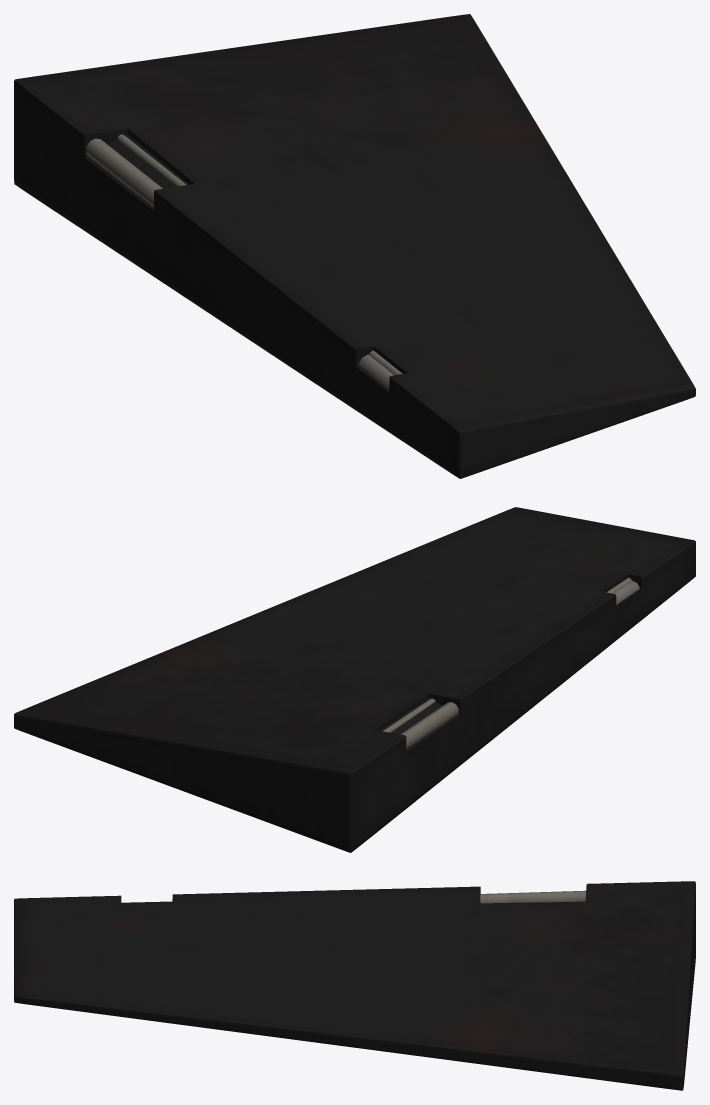
File: x15_flap_left.glb
3 renders of one model, top to bottom at view 1: azimuth 30°, elevation 25°; view 2: azimuth 150°, elevation 25°; view 3: azimuth 270°, elevation 25°, orthographic. The views are drawn at different scales.
Parts seen in each view (by area): view 1: flap_left_export; view 2: flap_left_export; view 3: flap_left_export.
Boxes of the visible parts, left/top/right/bottom form: flap_left_export: left=14, top=14, right=695, bottom=478; flap_left_export: left=14, top=507, right=695, bottom=852; flap_left_export: left=14, top=881, right=695, bottom=1090.
Size of the model in its own units: 0.7894 by 0.1755 by 1.36.
1 material, 1 textured.
